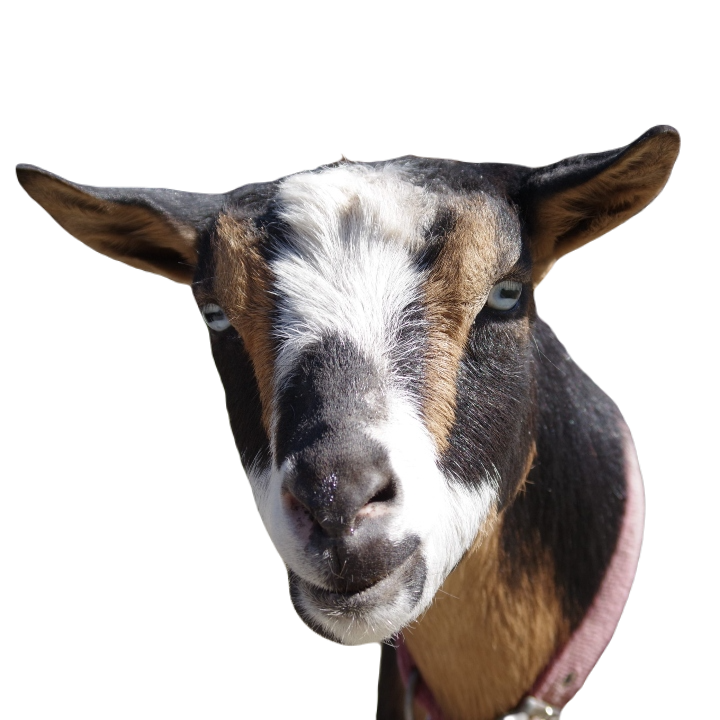Goat: (13, 125, 680, 719)
